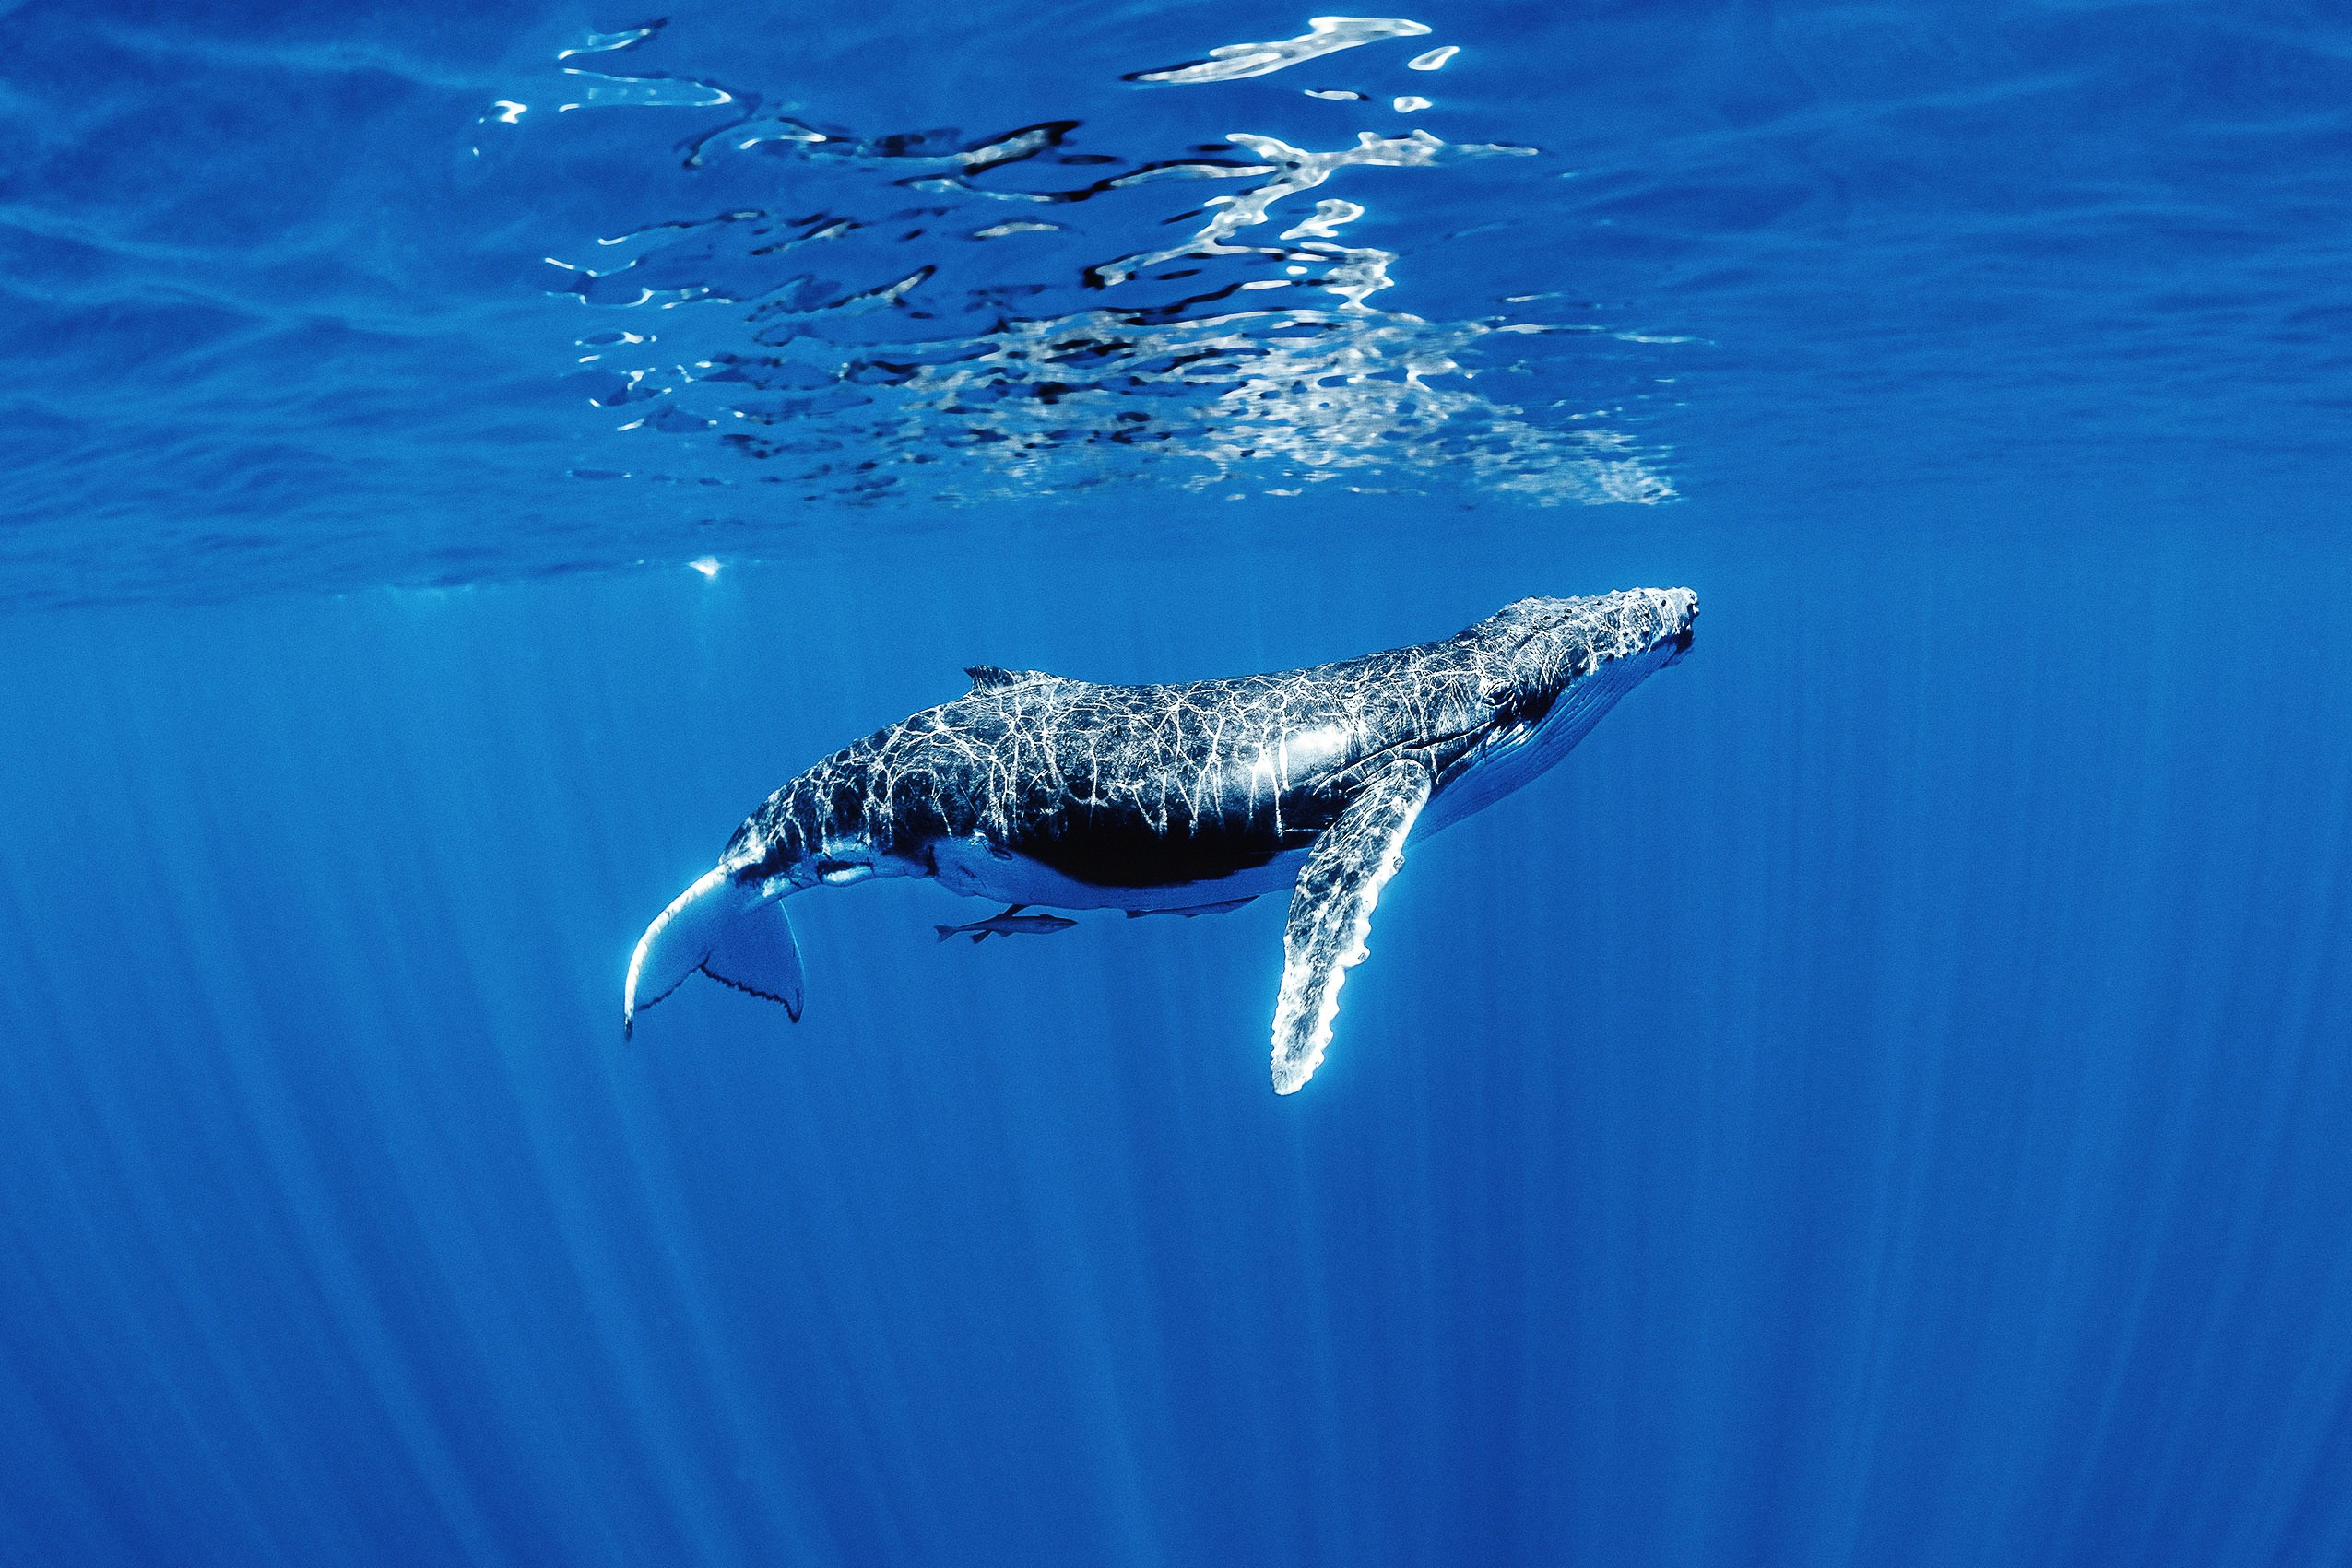humpback: (761, 584, 1704, 919)
